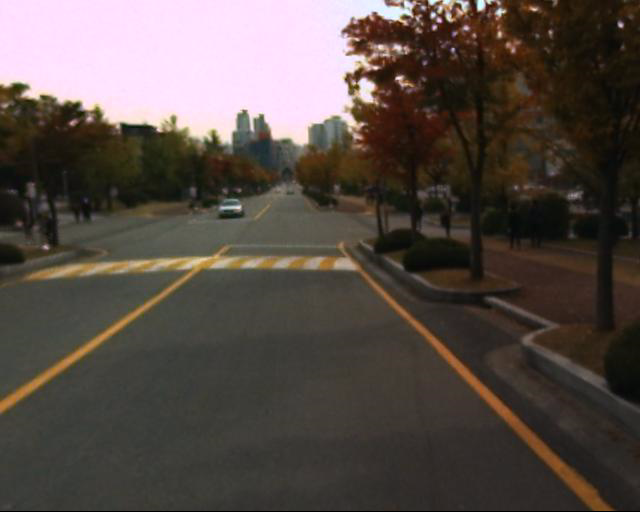person: (506, 202, 528, 253), (525, 200, 546, 250), (438, 203, 458, 245), (409, 197, 429, 234)
